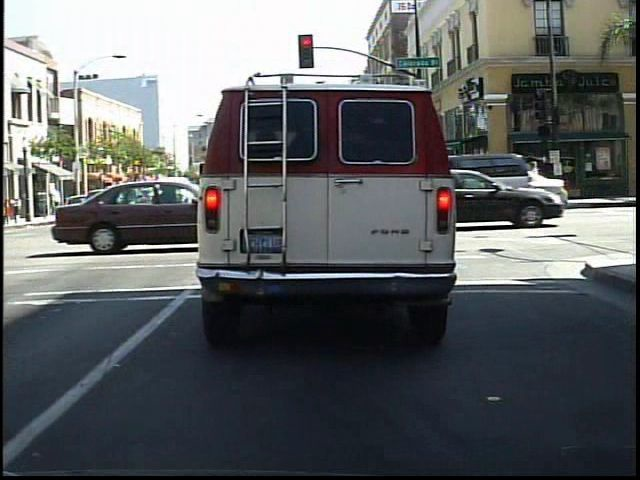person: (537, 154, 558, 204), (511, 160, 531, 206)
